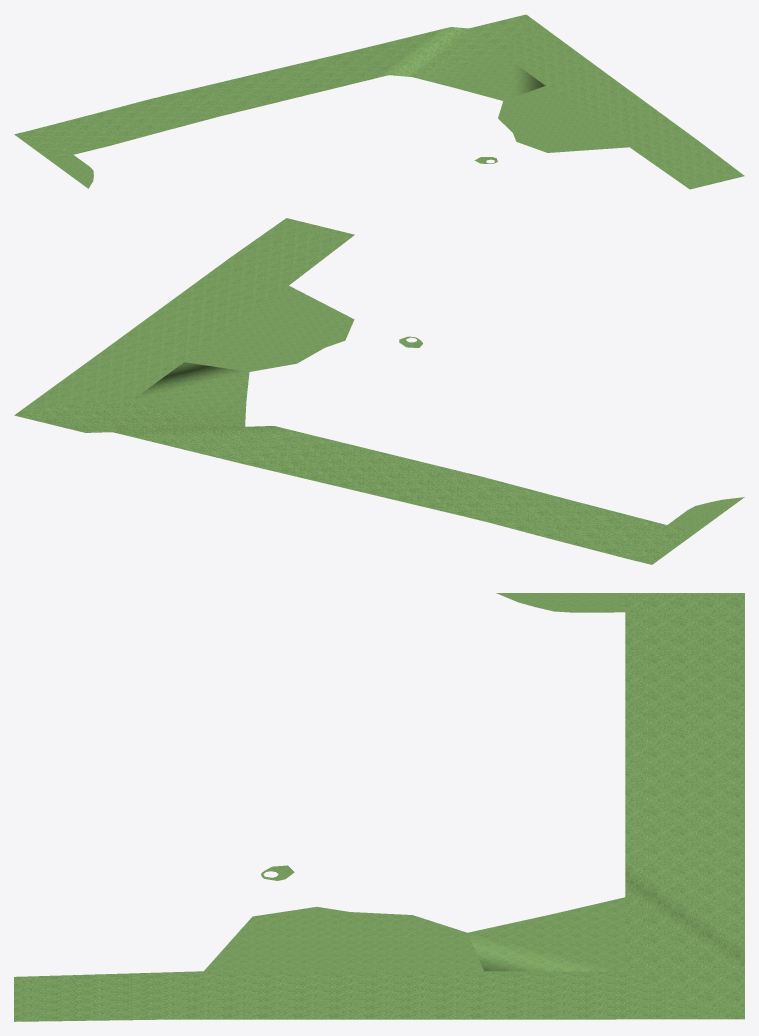
File: kd_stage_135ded_4_136_exterior.glb
3 renders of one model, top to bottom at view 1: azimuth 30°, elevation 25°; view 2: azimuth 150°, elevation 25°; view 3: azimuth 270°, elevation 25°, orthographic. The views are drawn at different scales.
Visible parts, largest first — view 1: kd_stage_135ded_4_136_exterior; view 2: kd_stage_135ded_4_136_exterior; view 3: kd_stage_135ded_4_136_exterior.
Part boxes in pixels (x1,y1,x2,y2): kd_stage_135ded_4_136_exterior: (14,14,744,189); kd_stage_135ded_4_136_exterior: (14,218,744,564); kd_stage_135ded_4_136_exterior: (14,593,744,1021).
Bounding box in the file's own units: 18.12 × 0.3127 × 13.4.
Materials: 1 (1 with a texture image).
